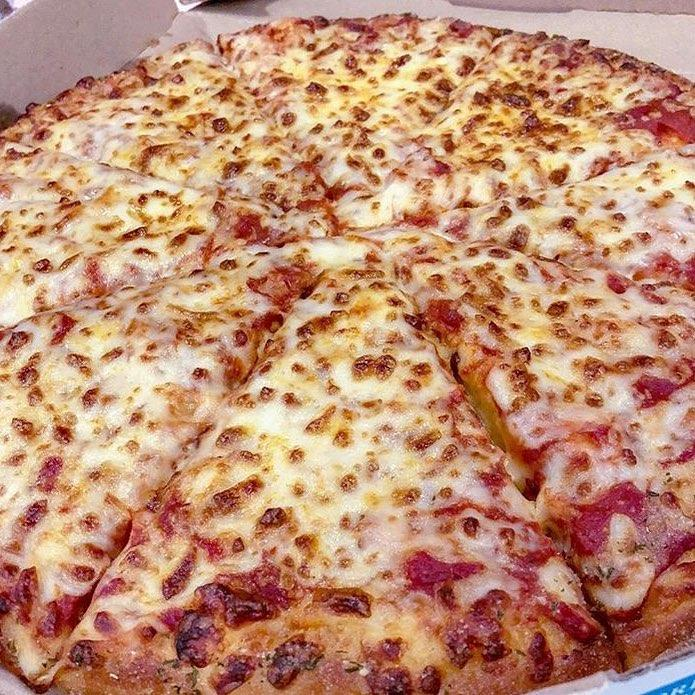Pizza: (0, 14, 695, 693)
